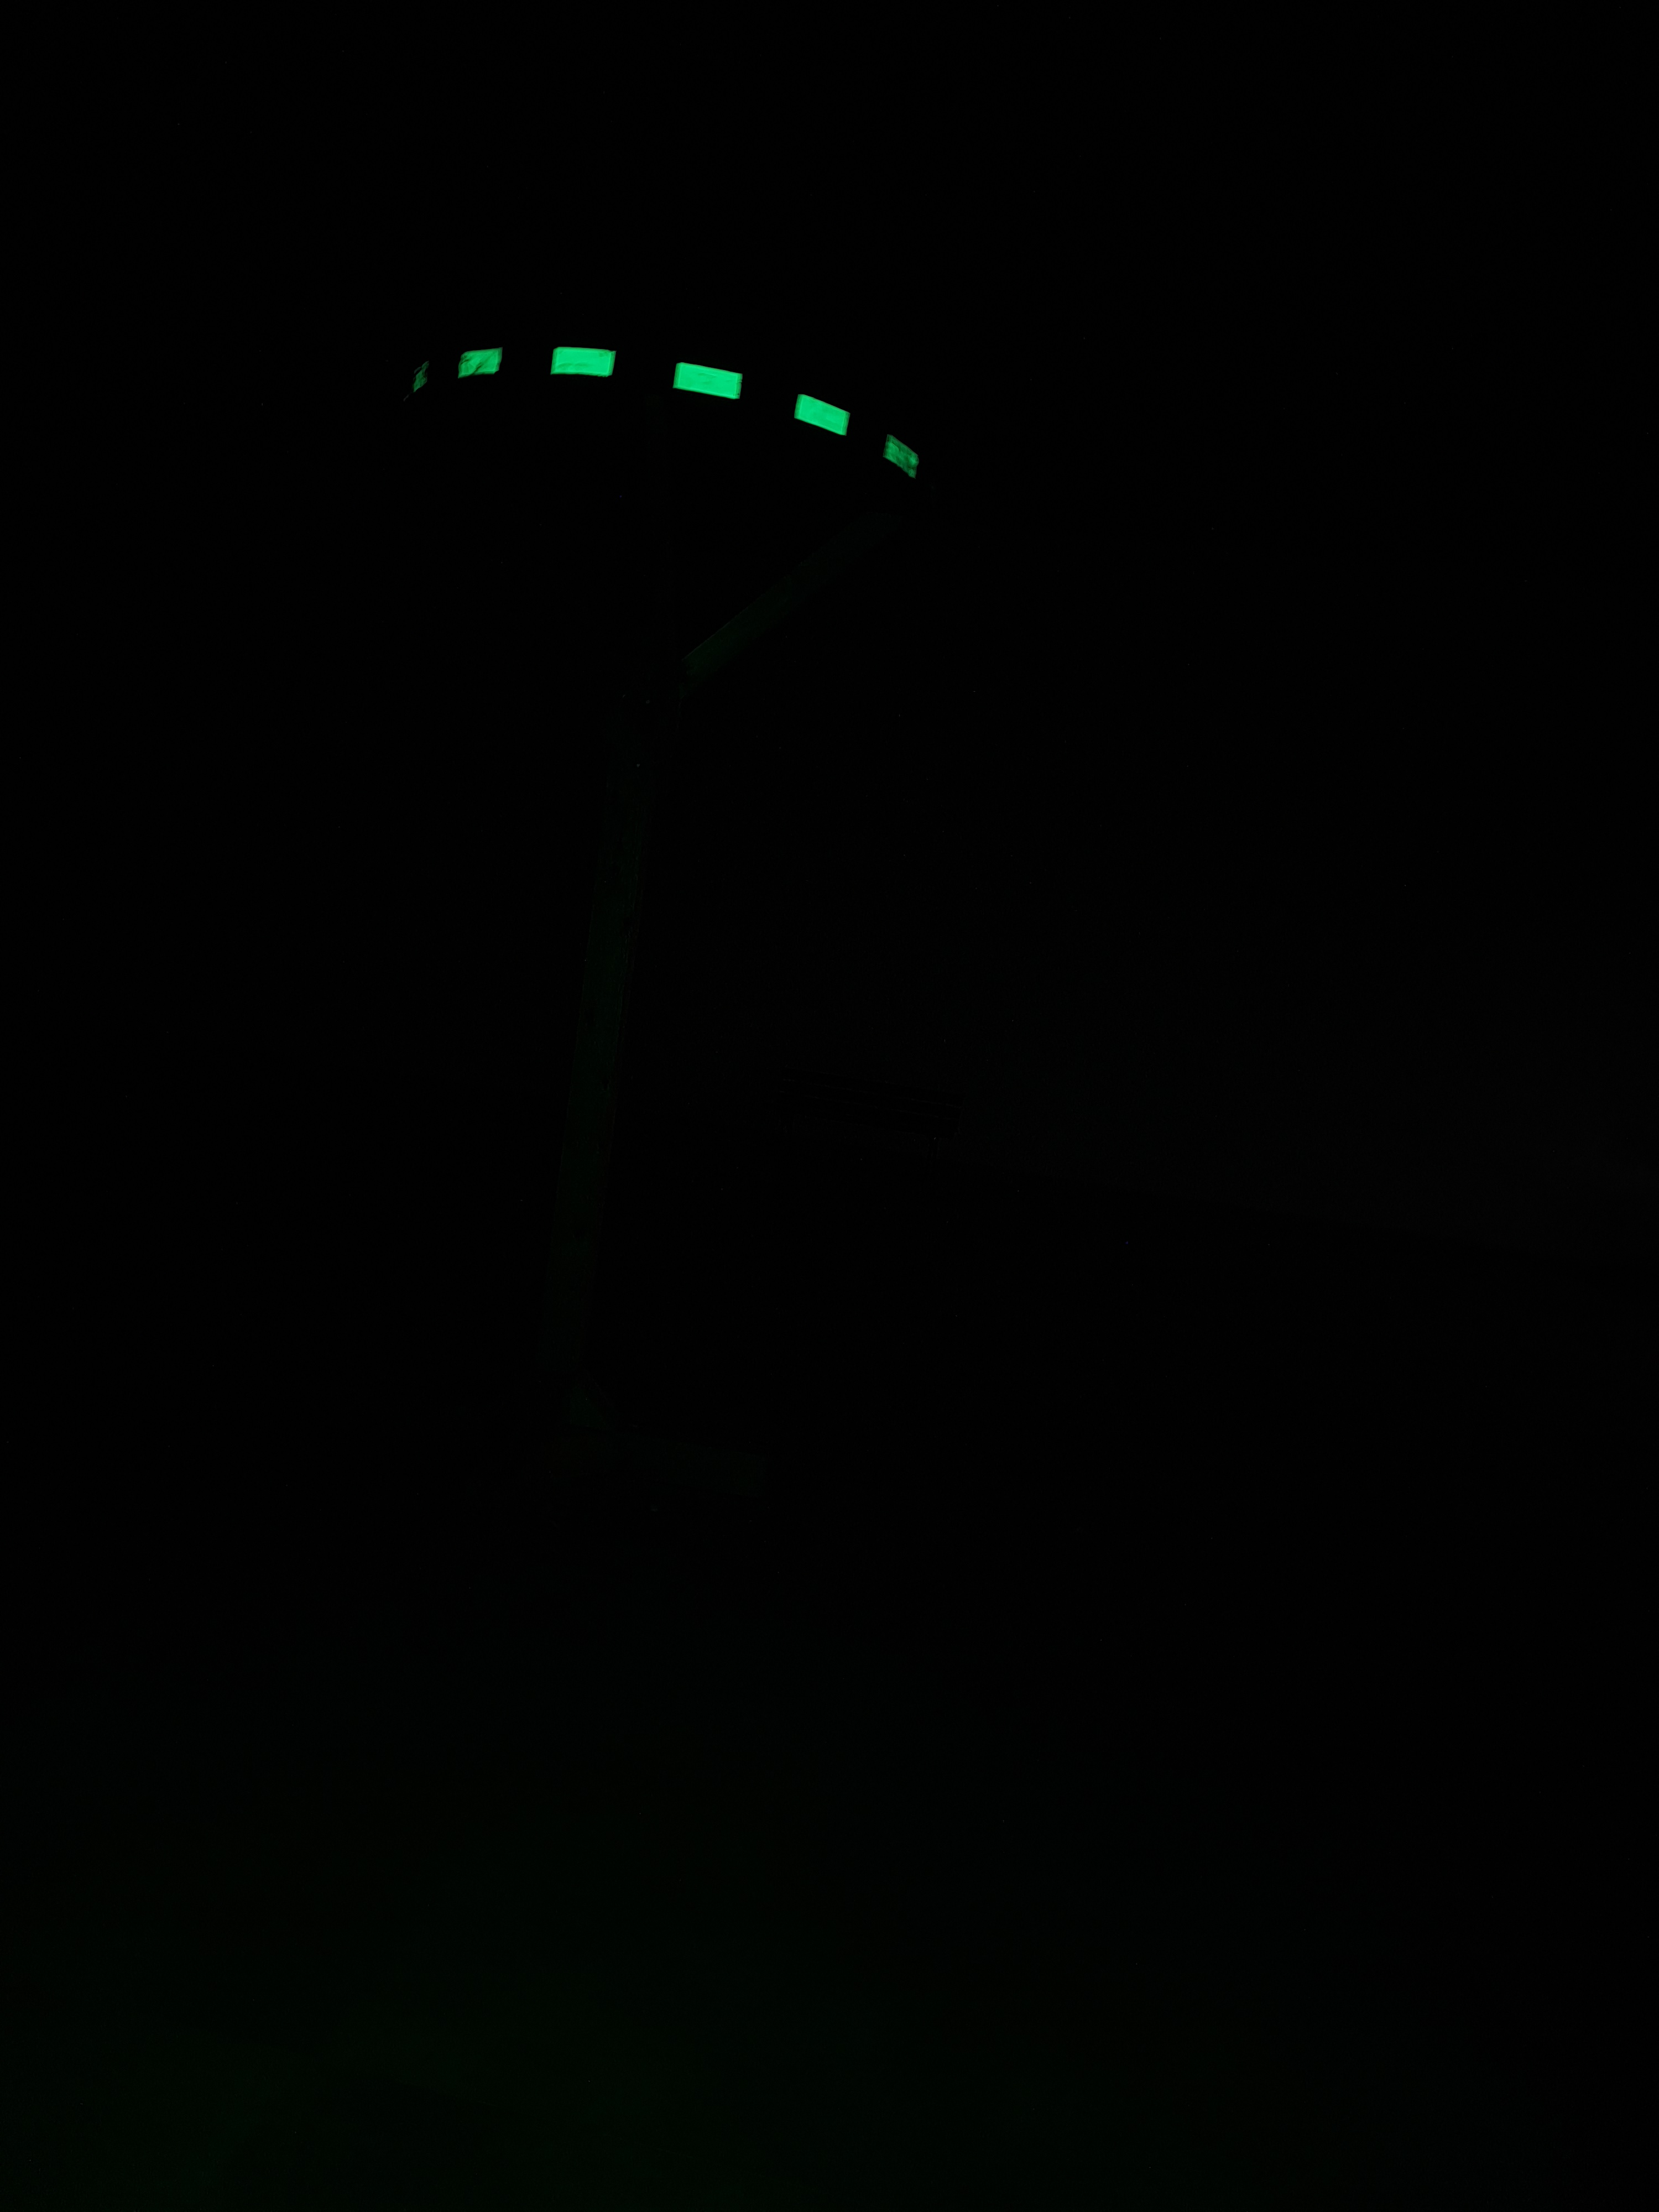hoop: (404, 334, 922, 489)
